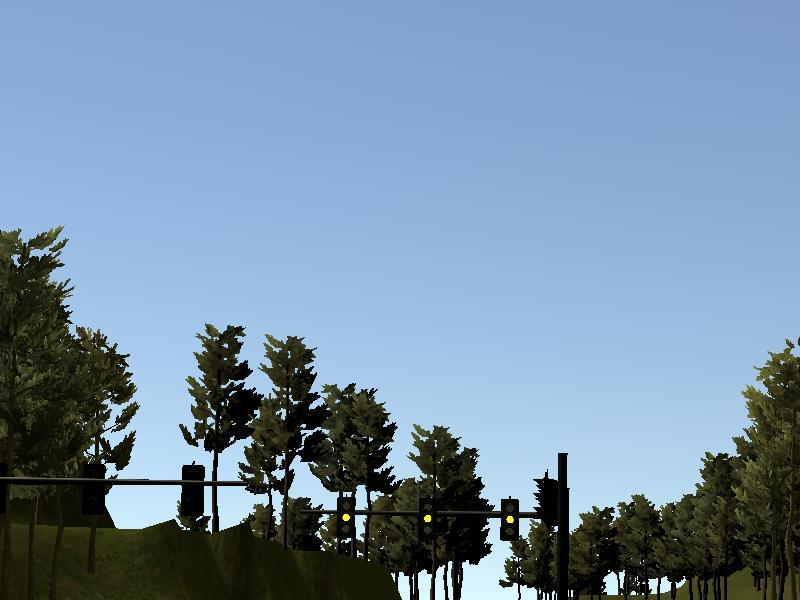Yellow: (501, 499, 519, 542), (419, 497, 437, 539), (336, 498, 355, 537)
